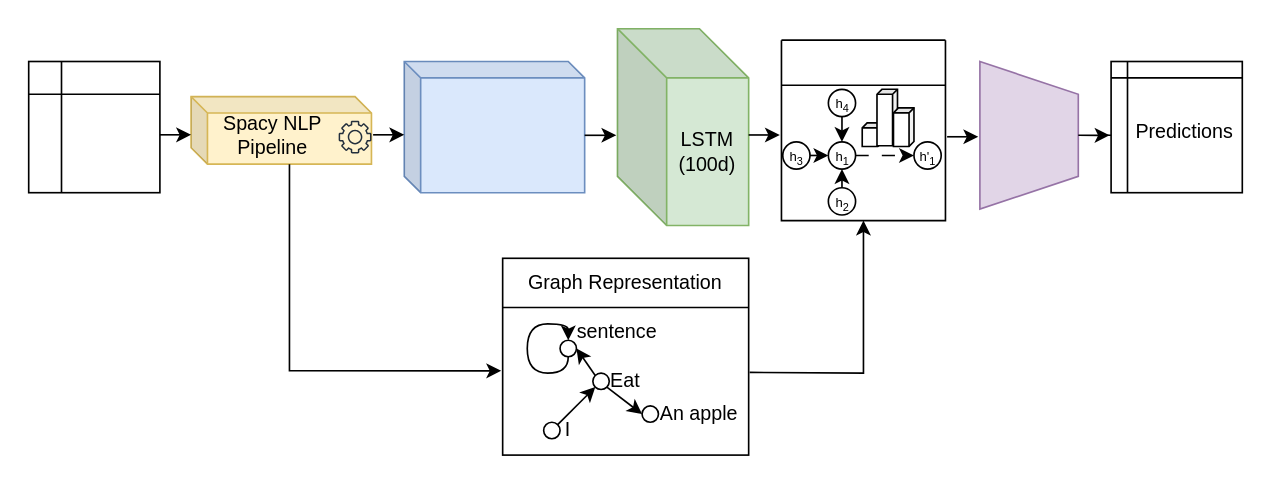
Image size: 1271x484. Some labels were removed from this diagram. Here are the shapes that lost their labels. From the top down, the centre of each, then its label:
At pixel 93 126: "Clean data".
At pixel 494 126: "GloVe word representation 100d".
At pixel 862 130: "GCN/GAT".
At pixel 1028 134: "Classifier".
